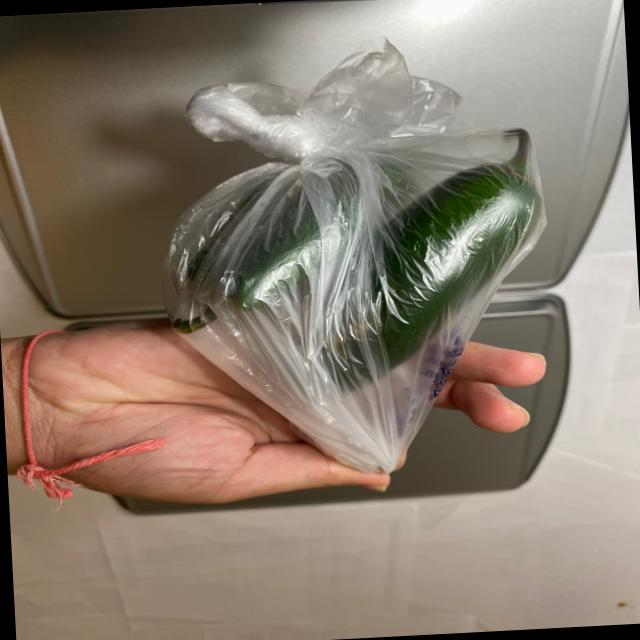chilli: (168, 120, 548, 409)
